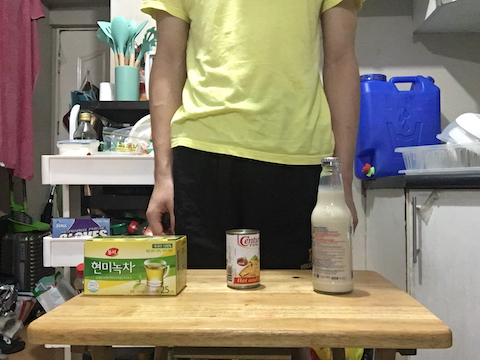bottle: (309, 154, 357, 297)
box: (80, 231, 191, 300)
can: (223, 228, 264, 292)
